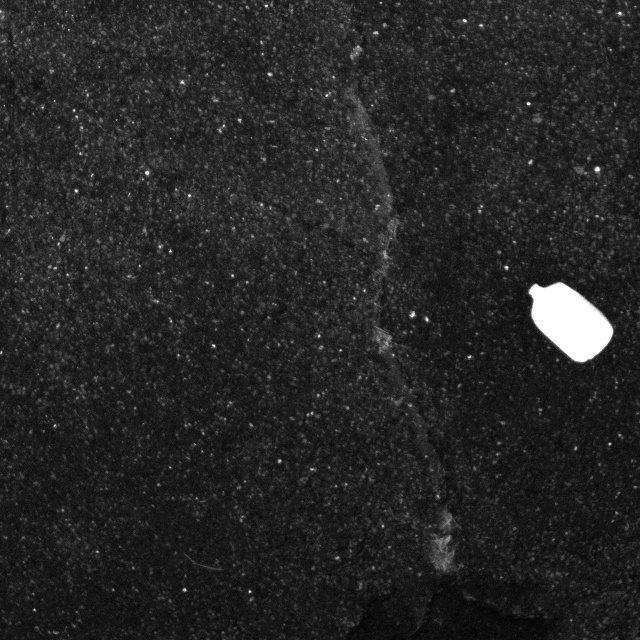can: (513, 275, 618, 378)
